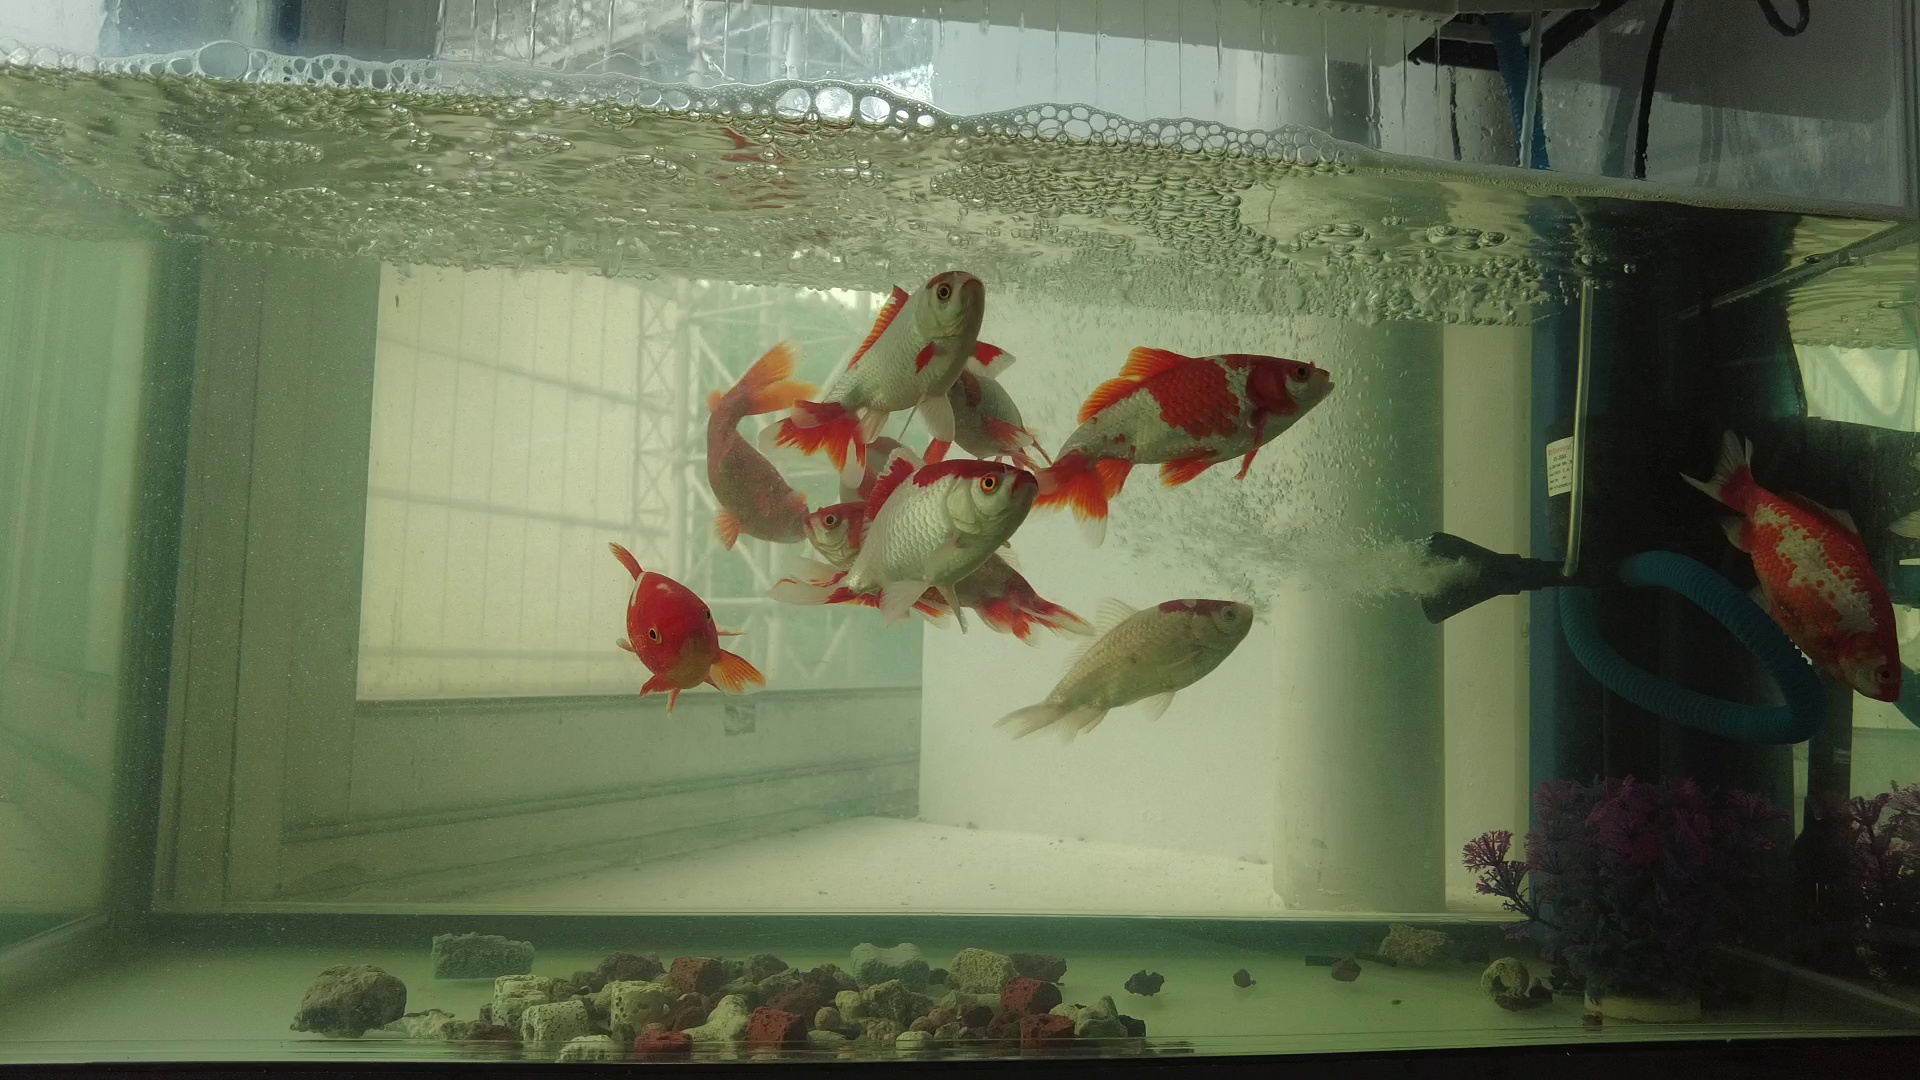fish: (1668, 423, 1911, 713), (1030, 338, 1342, 554), (760, 440, 1048, 640), (796, 496, 1106, 654), (764, 266, 992, 476), (982, 589, 1261, 754), (603, 531, 778, 717), (699, 334, 828, 556), (928, 368, 1069, 477)
